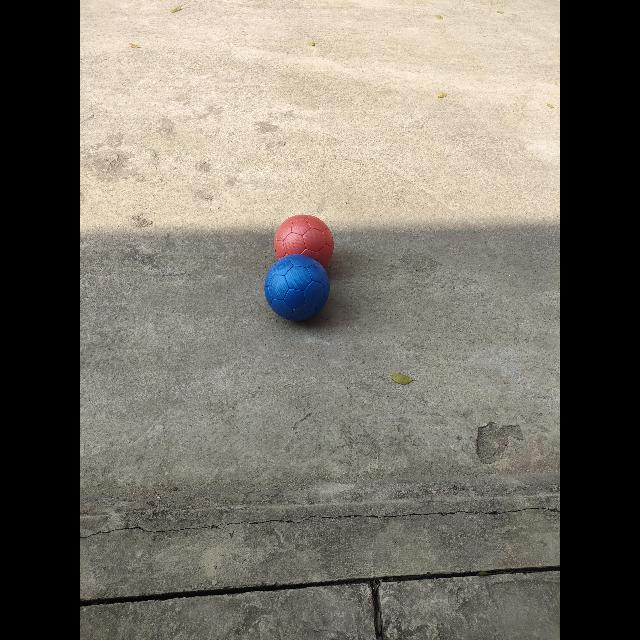B: (265, 255, 330, 321)
R: (274, 215, 334, 266)
